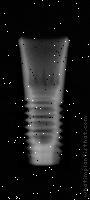DENTSPLY: (17, 37, 70, 168)
